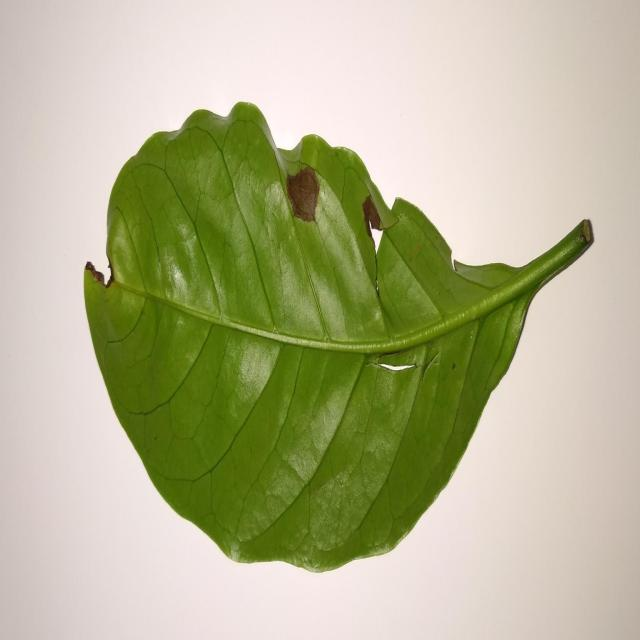Enfermedad-Antracnosis: (82, 102, 595, 577)
